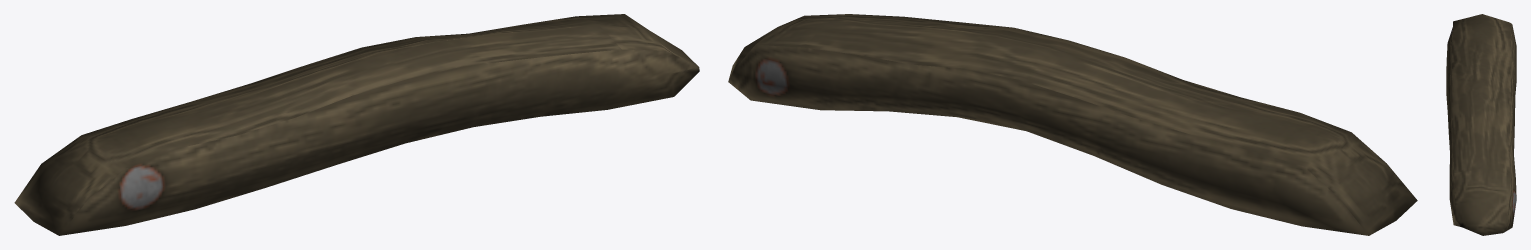
File: wood_small_A.fbx
3 renders of one model, left to right at view 1: azimuth 30°, elevation 25°; view 2: azimuth 150°, elevation 25°; view 3: azimuth 270°, elevation 25°, orthographic. The views are drawn at different scales.
Parts seen in each view (by area): view 1: wood_small_A; view 2: wood_small_A; view 3: wood_small_A.
Part boxes in pixels (box(x1,y1,x2,y2)): wood_small_A: box(14, 14, 699, 235); wood_small_A: box(728, 14, 1417, 235); wood_small_A: box(1446, 14, 1516, 235).
Size of what is drawn, in the model's own units: 147 by 21.2 by 22.2.
1 material, 1 textured.
